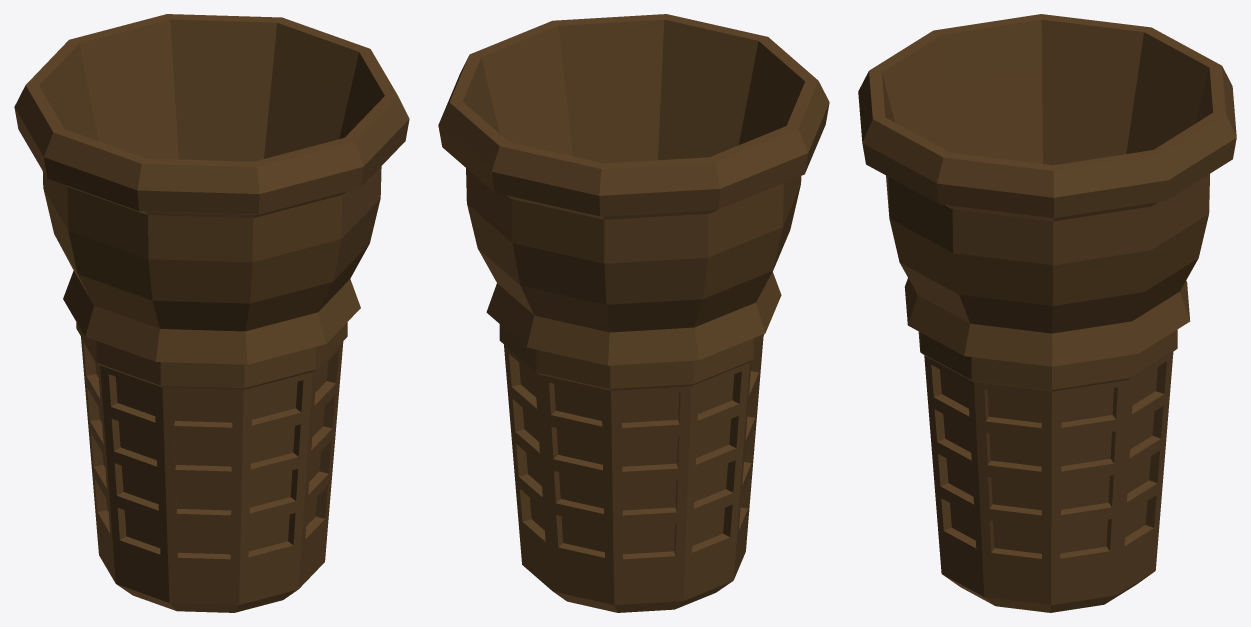
File: IceCream_Cone2.obj
3 renders of one model, left to right at view 1: azimuth 30°, elevation 25°; view 2: azimuth 150°, elevation 25°; view 3: azimuth 270°, elevation 25°, orthographic.
Parts seen in each view (by area): view 1: IceCream_Cone2_Cylinder.041; view 2: IceCream_Cone2_Cylinder.041; view 3: IceCream_Cone2_Cylinder.041.
Boxes of the visible parts, x1,y1,x2,y2 form: IceCream_Cone2_Cylinder.041: (14, 14, 409, 612); IceCream_Cone2_Cylinder.041: (438, 14, 829, 612); IceCream_Cone2_Cylinder.041: (858, 14, 1236, 612).
Bounding box in the file's own units: 0.4668 × 0.6297 × 0.4488.
